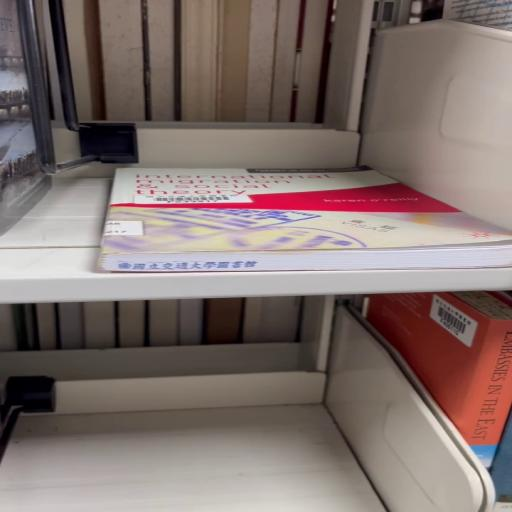flat: (99, 167, 511, 273)
